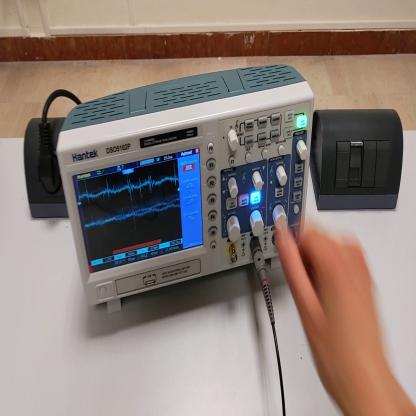hand: (275, 215, 387, 403)
oscilloscope: (54, 63, 316, 318)
socket: (23, 119, 69, 223)
